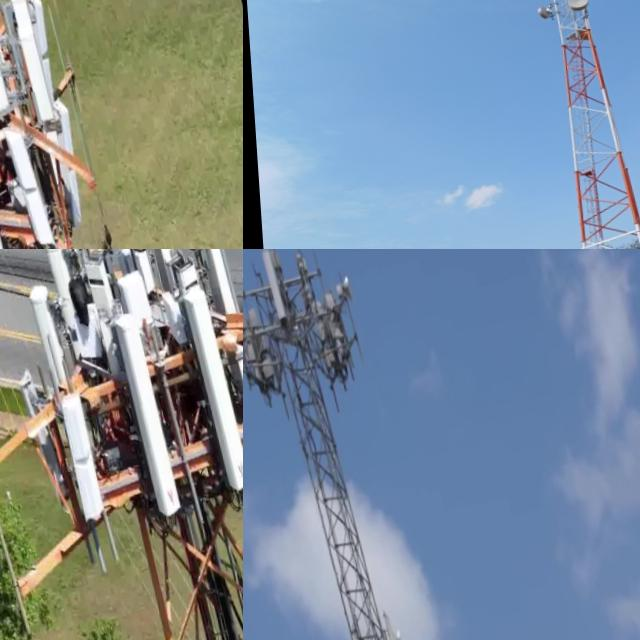GSM Antenna: (106, 309, 187, 524), (178, 287, 243, 496), (49, 386, 105, 520), (0, 0, 58, 125), (0, 122, 54, 249), (9, 363, 60, 496), (21, 277, 72, 399), (35, 249, 86, 338), (190, 249, 237, 329), (255, 249, 288, 327), (138, 249, 185, 301), (370, 604, 397, 640)
Microwave Antenna: (329, 272, 356, 307), (560, 0, 591, 17), (530, 3, 553, 23), (386, 629, 404, 640)
